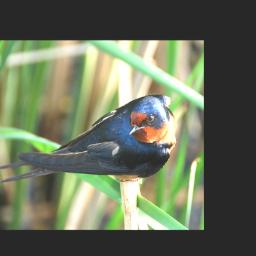Swallow: (0, 92, 179, 185)
